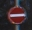No entry: (5, 5, 27, 25)
